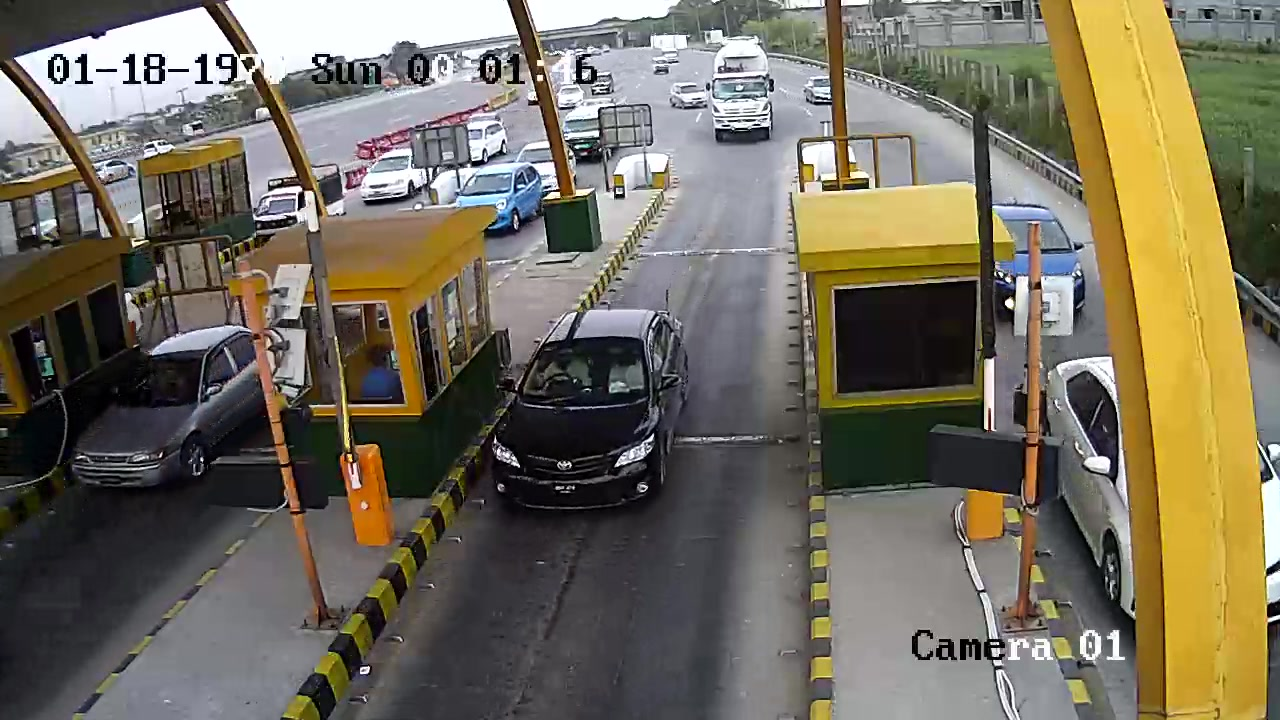F1: (483, 305, 695, 553)
